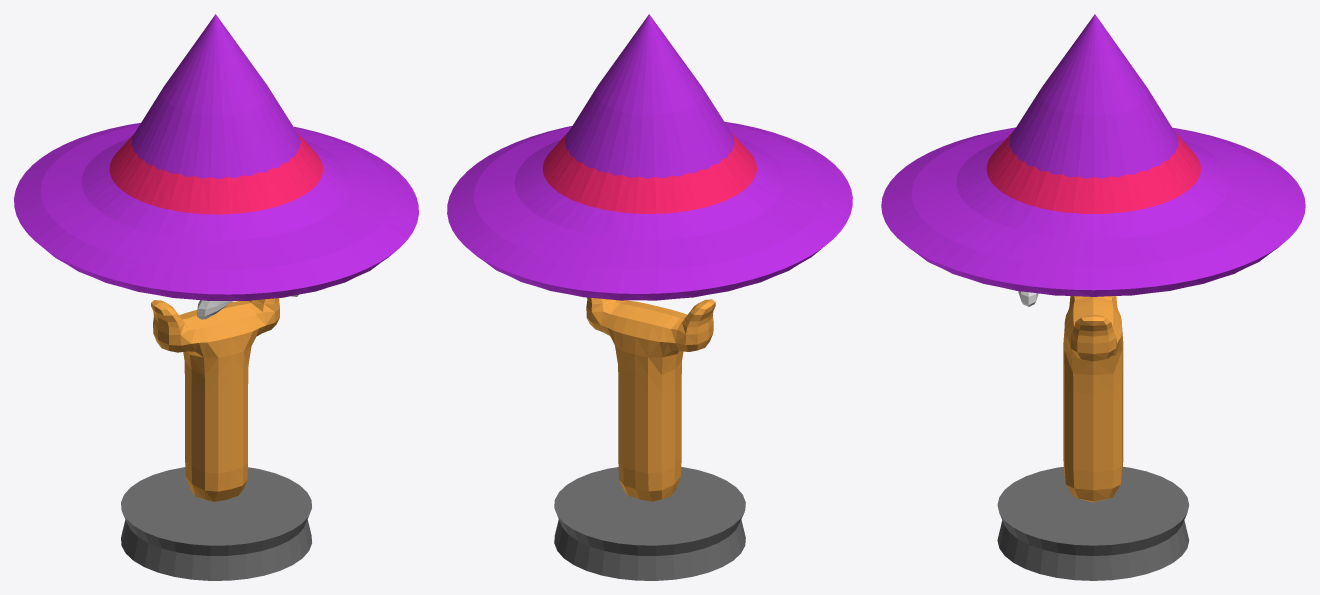
The model's file is stick.obj.
The picture shows the model from 3 angles, left to right: view 1: azimuth 30°, elevation 25°; view 2: azimuth 150°, elevation 25°; view 3: azimuth 270°, elevation 25°; orthographic projection.
Parts seen in each view (by area): view 1: 円錐, Cylinder, 立方体; view 2: 円錐, Cylinder, 立方体; view 3: 円錐, Cylinder, 立方体.
Part boxes in pixels (box(x1,y1,x2,y2)): 円錐: box(14, 14, 418, 300); Cylinder: box(121, 467, 311, 580); 立方体: box(151, 298, 279, 501); 円錐: box(447, 14, 852, 300); Cylinder: box(554, 467, 745, 580); 立方体: box(586, 297, 715, 501); 円錐: box(881, 14, 1305, 296); Cylinder: box(997, 466, 1189, 580); 立方体: box(1063, 296, 1123, 502).
Bounding box in the file's own units: 2.66 × 3.88 × 2.83.
5 materials, 5 textured.
